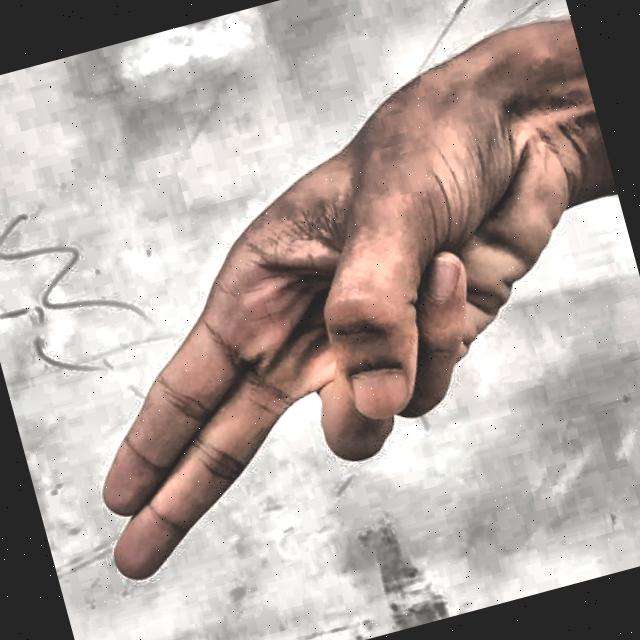Ha: (0, 31, 639, 640)
